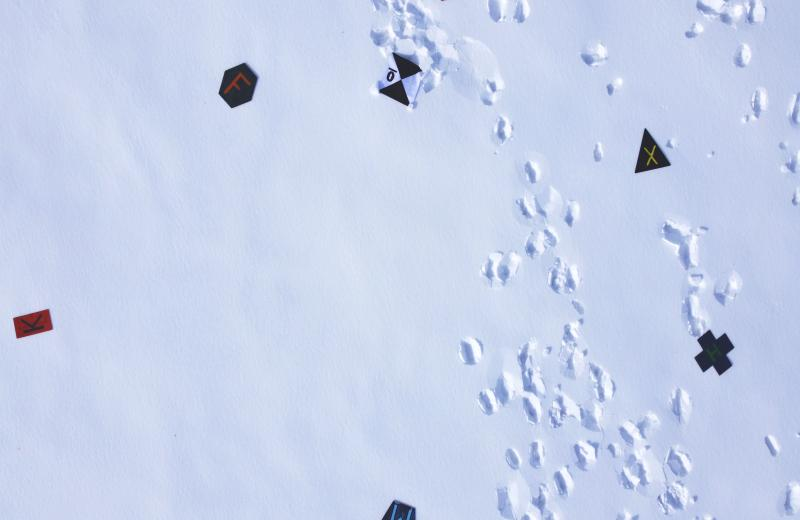Cross: (695, 329, 734, 376)
Hexagon: (219, 60, 260, 110), (382, 500, 423, 520)
Rectangle: (13, 308, 53, 340)
Triangle: (634, 128, 672, 177)
